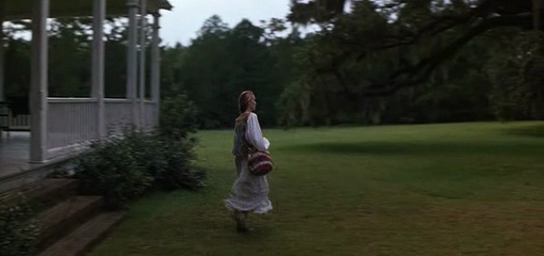els: (1, 1, 544, 256)
face: (248, 95, 257, 111)
person: (222, 90, 275, 234)
